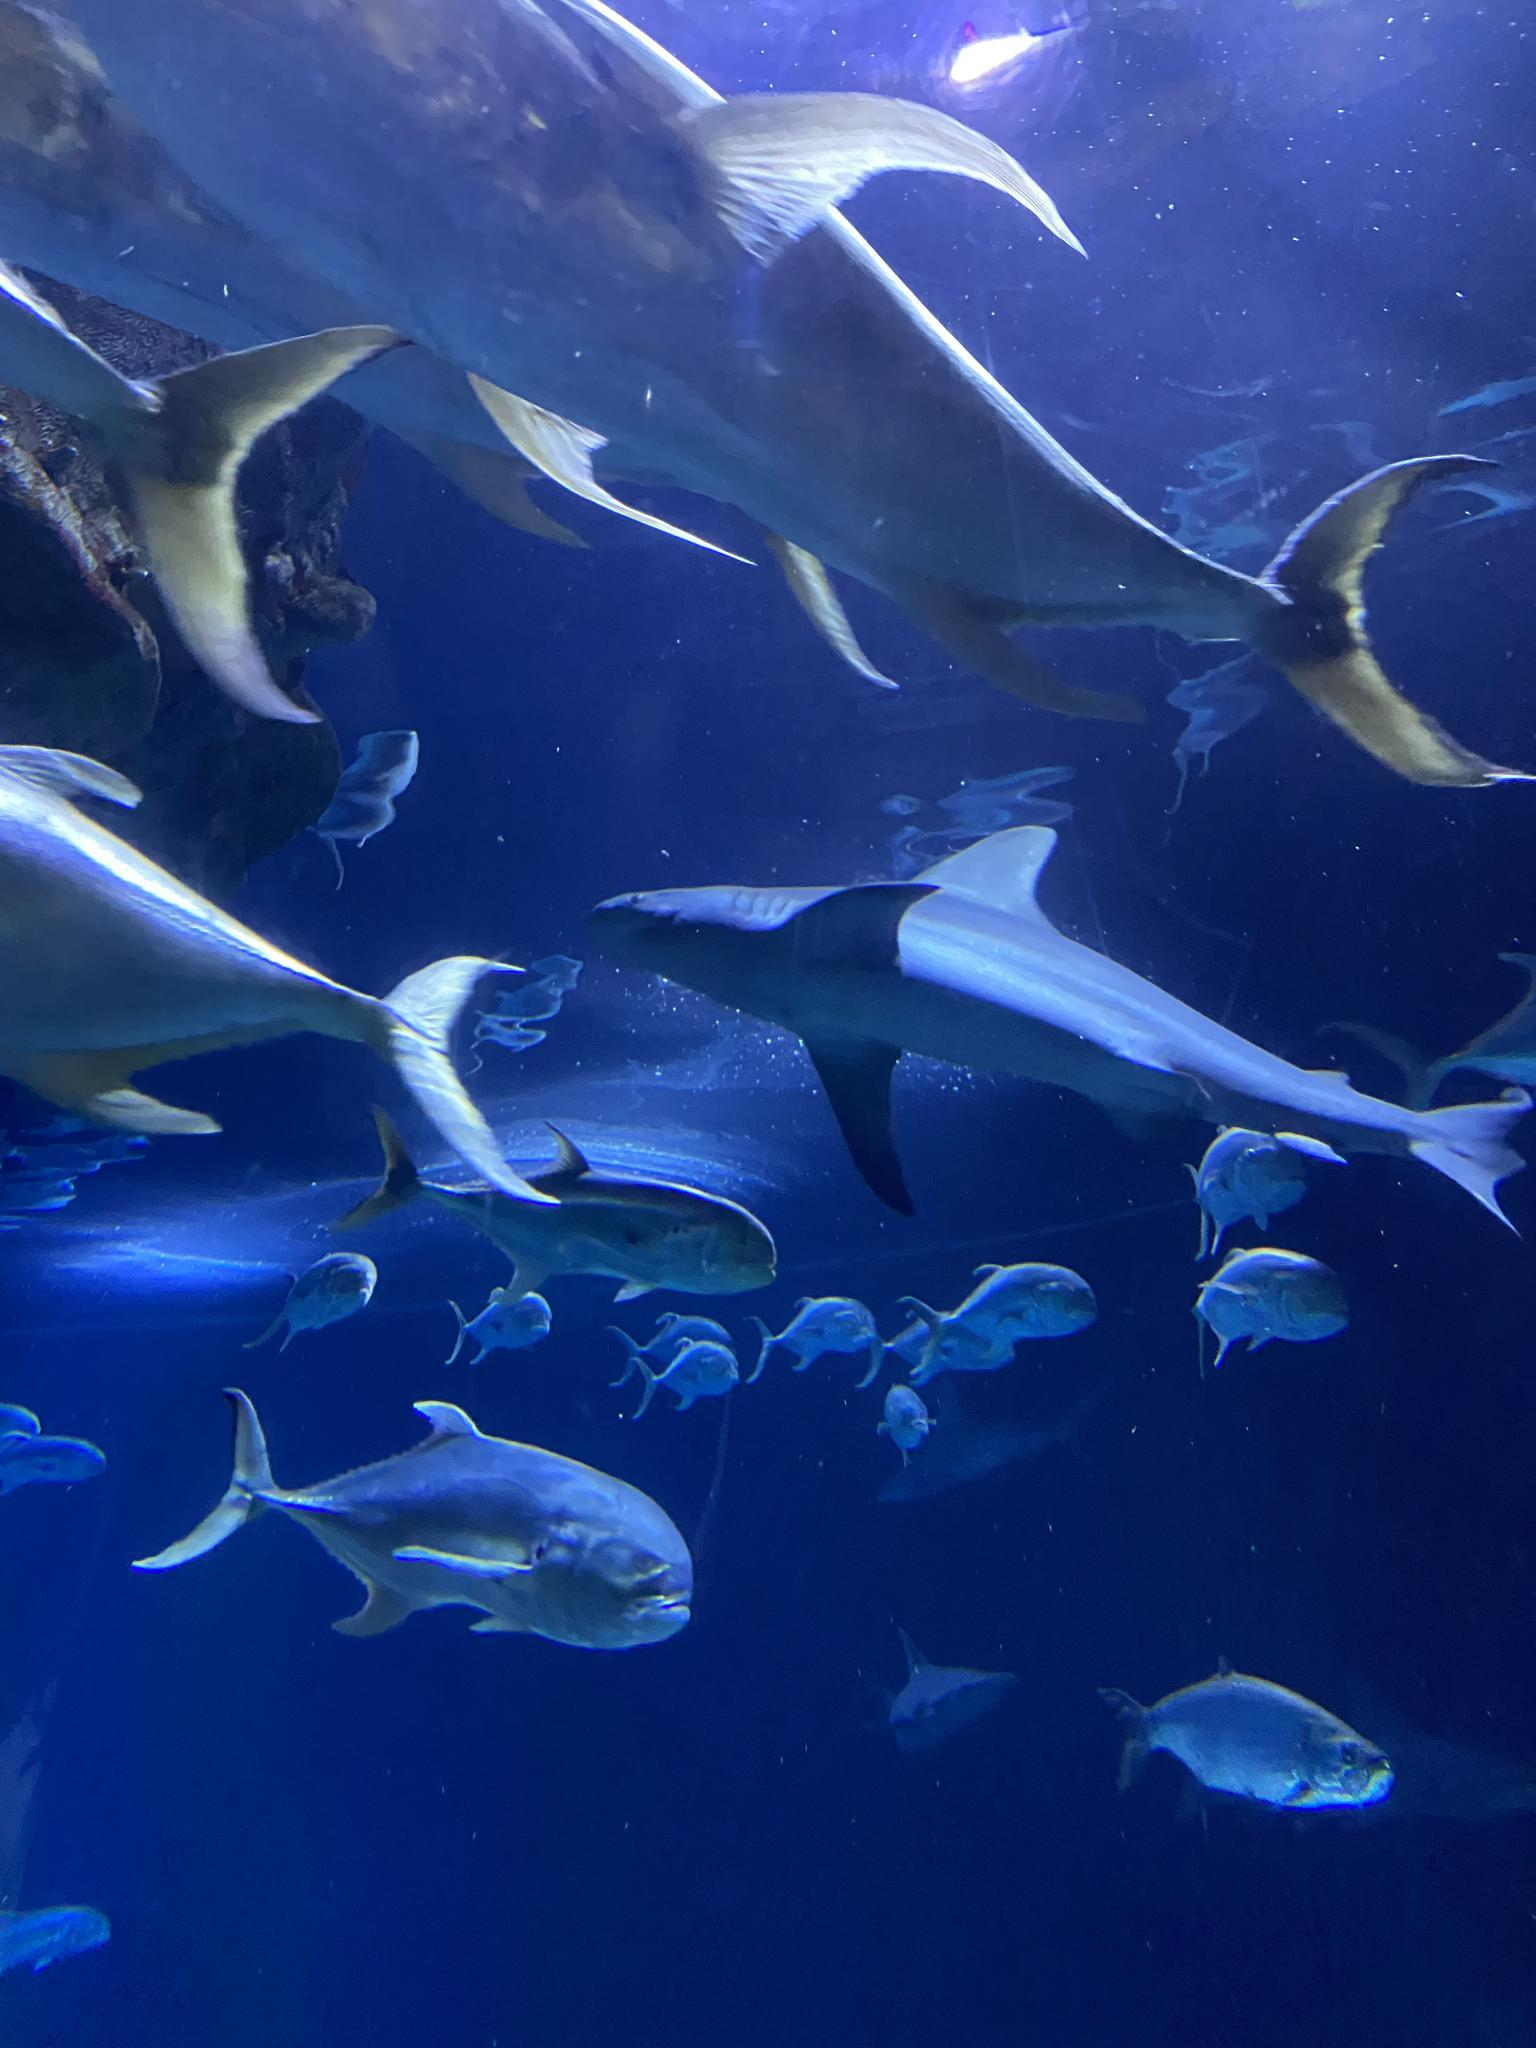fish: (71, 2, 1534, 797), (0, 747, 560, 1206), (0, 258, 415, 724), (136, 1388, 695, 1651), (328, 1101, 776, 1305), (1096, 1653, 1396, 1813), (1317, 947, 1534, 1113), (892, 1261, 1094, 1376), (1192, 1247, 1347, 1379), (1184, 1124, 1305, 1259), (244, 1255, 379, 1355), (857, 1313, 1015, 1387), (745, 1297, 876, 1384), (0, 1898, 115, 1988), (442, 1288, 549, 1372), (629, 1337, 737, 1419), (605, 1314, 729, 1364), (6, 1430, 106, 1492), (878, 1384, 936, 1467)
shark: (589, 826, 1534, 1243), (870, 1625, 1021, 1759)
